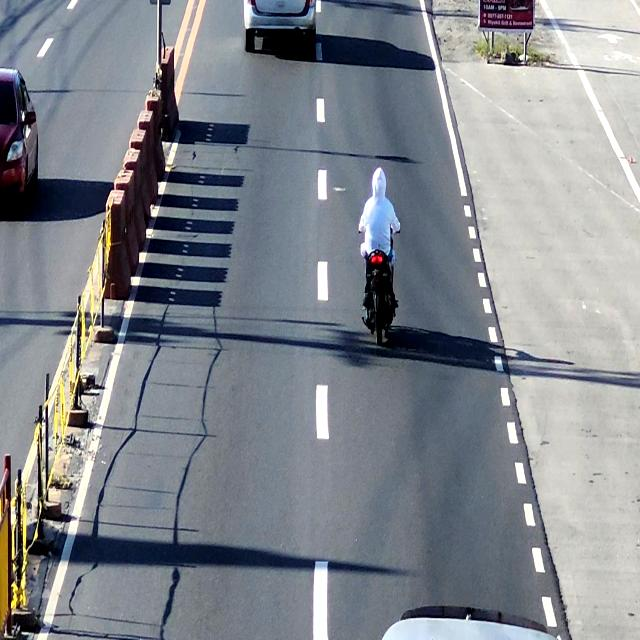Car: (240, 0, 320, 55)
Jeep: (378, 598, 559, 640)
Motorcycle: (359, 160, 401, 350)
